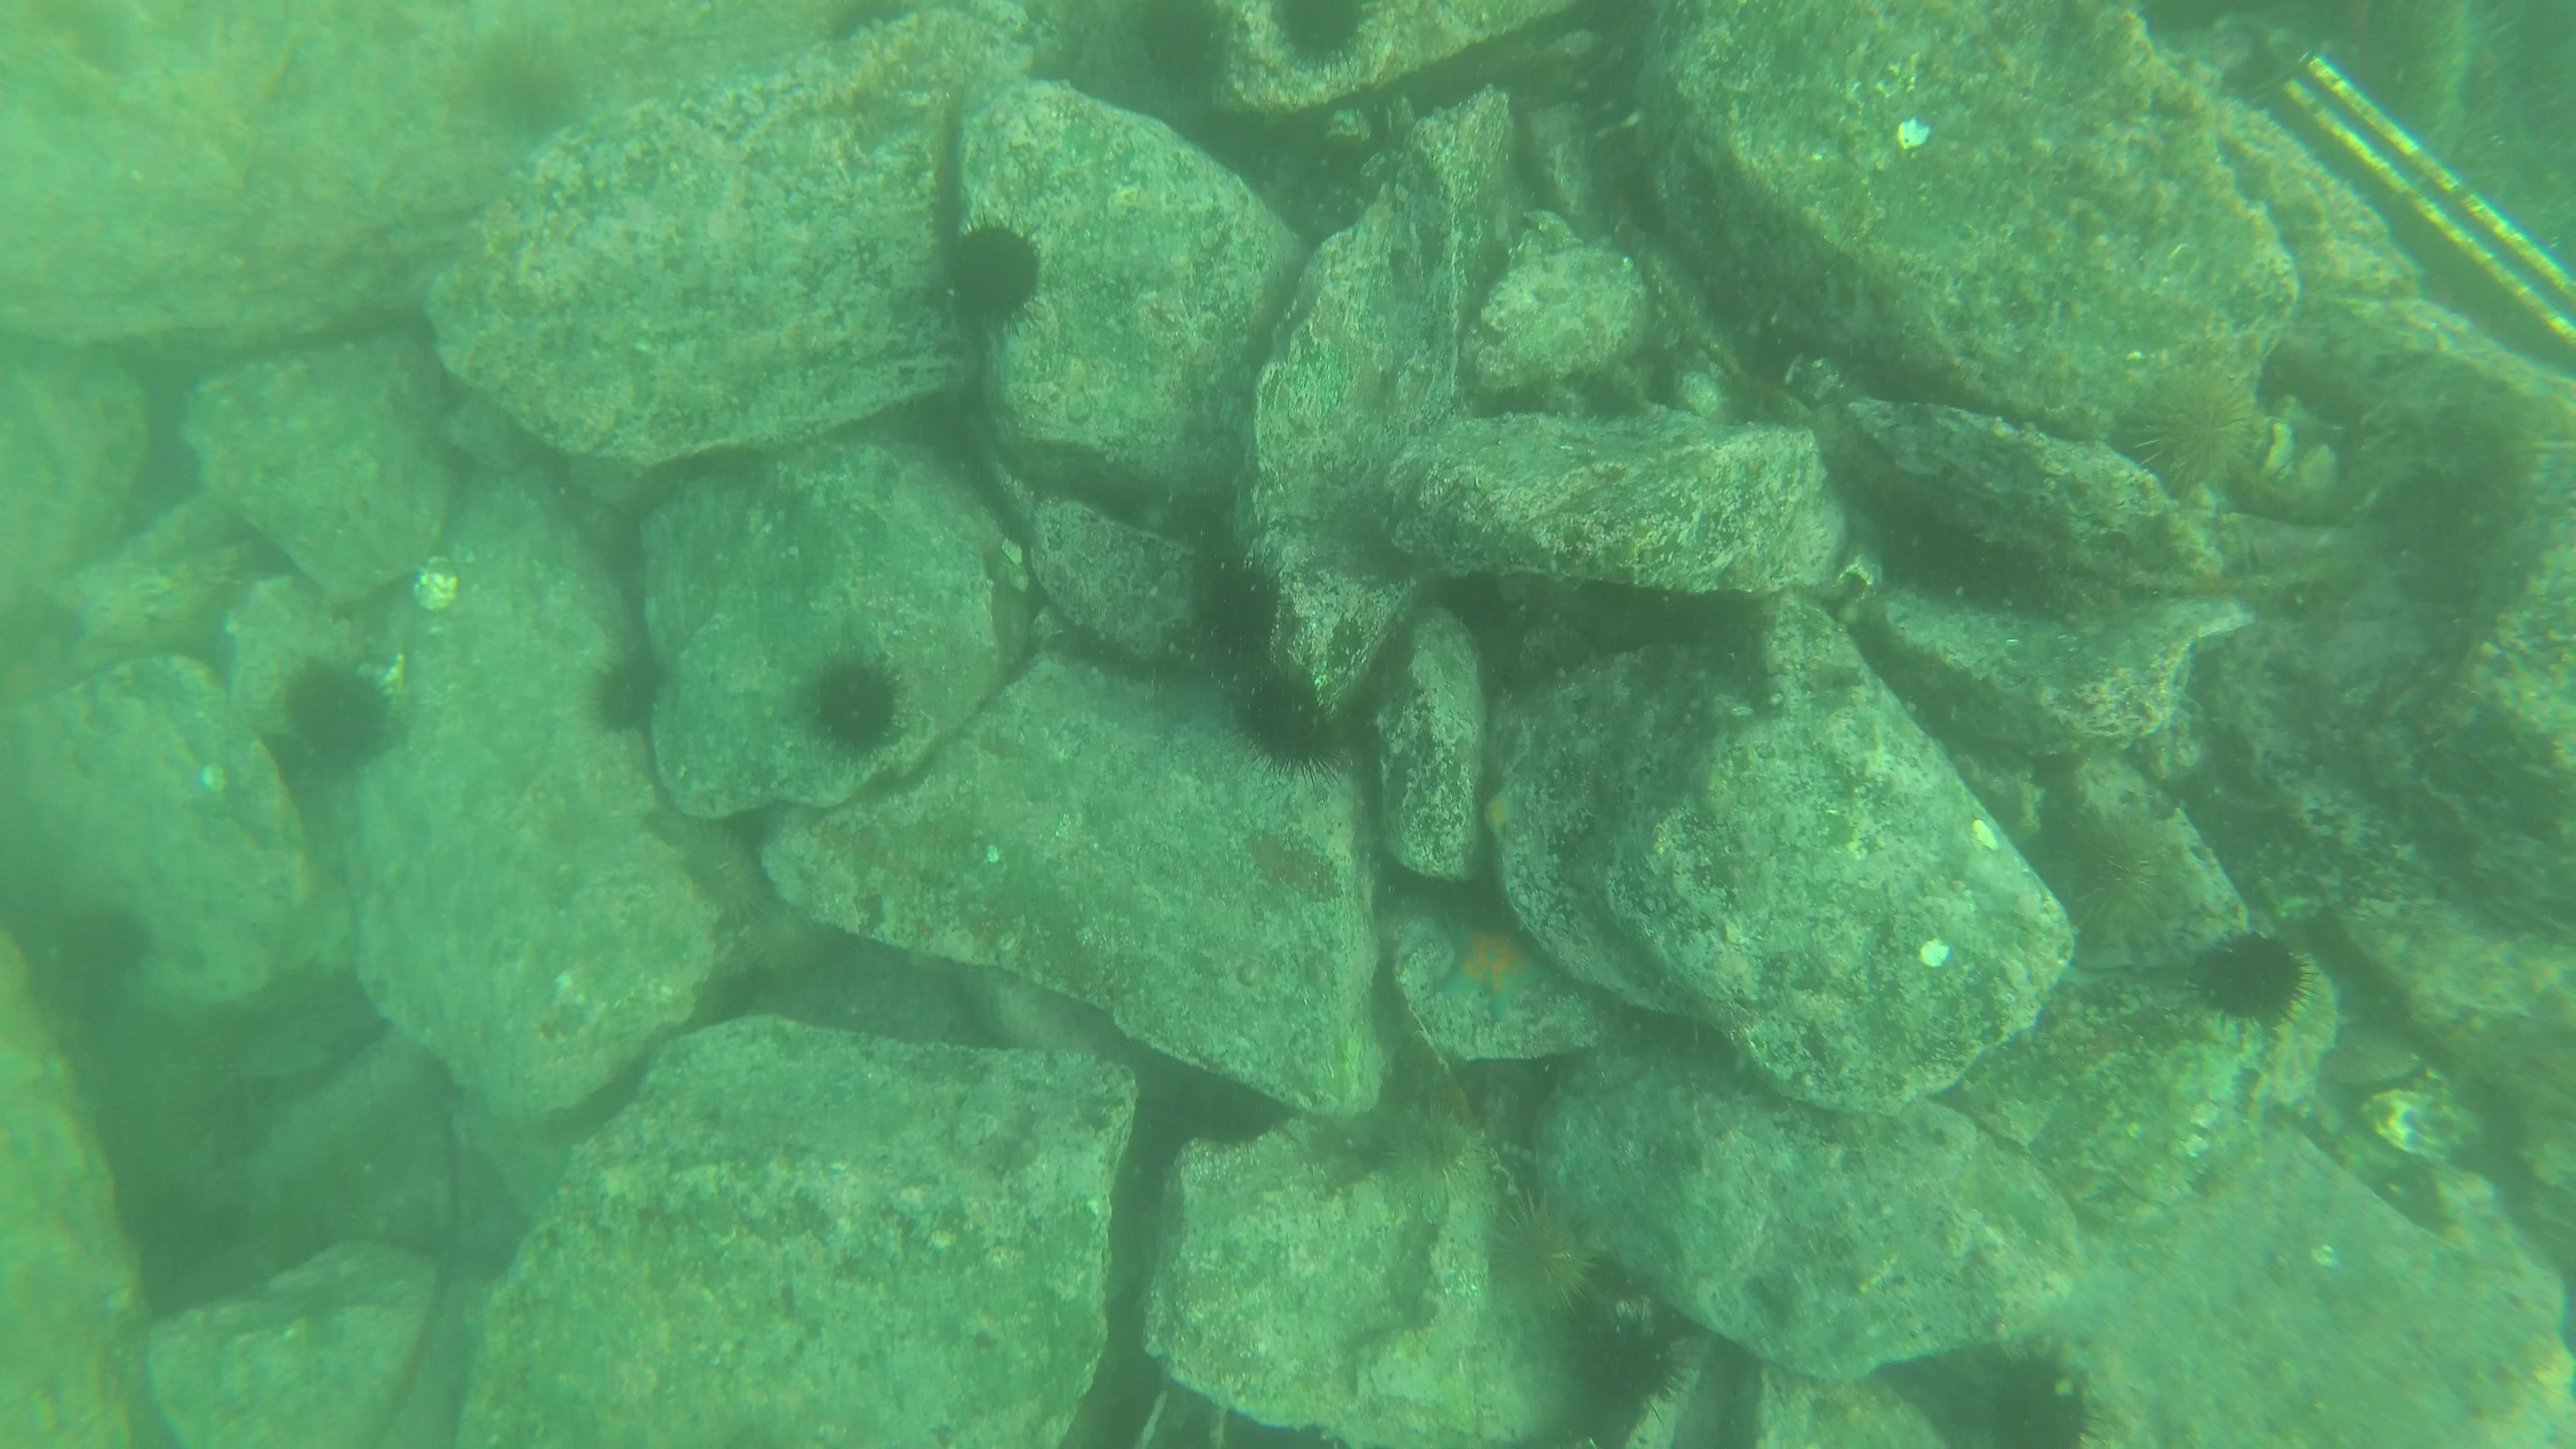echinus: (2056, 803, 2196, 959), (2112, 361, 2266, 501), (1550, 1292, 1693, 1428), (1481, 1187, 1612, 1325), (1366, 1100, 1507, 1228), (274, 653, 402, 777), (464, 25, 594, 145), (1971, 1341, 2107, 1449), (934, 214, 1051, 331), (2189, 924, 2314, 1031), (44, 893, 161, 1008), (796, 648, 911, 761), (1228, 662, 1343, 773), (1118, 2, 1247, 101), (1187, 548, 1292, 667), (582, 644, 672, 741), (1263, 0, 1380, 74)
starfish: (1421, 901, 1560, 1033), (1474, 755, 1537, 869)
